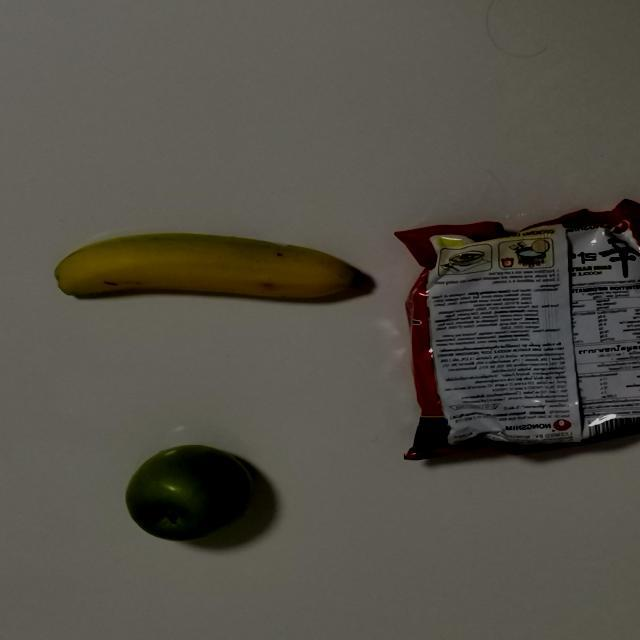apple: (120, 446, 249, 546)
banana: (39, 234, 397, 302)
